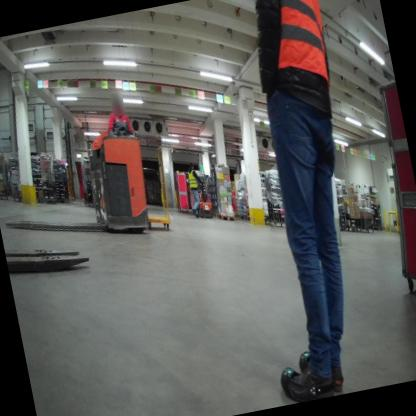pallet: (218, 208, 236, 224), (234, 210, 244, 220), (240, 211, 249, 220), (212, 210, 220, 219)
pallet_truck: (0, 114, 165, 253), (4, 227, 92, 284), (185, 176, 219, 220)
